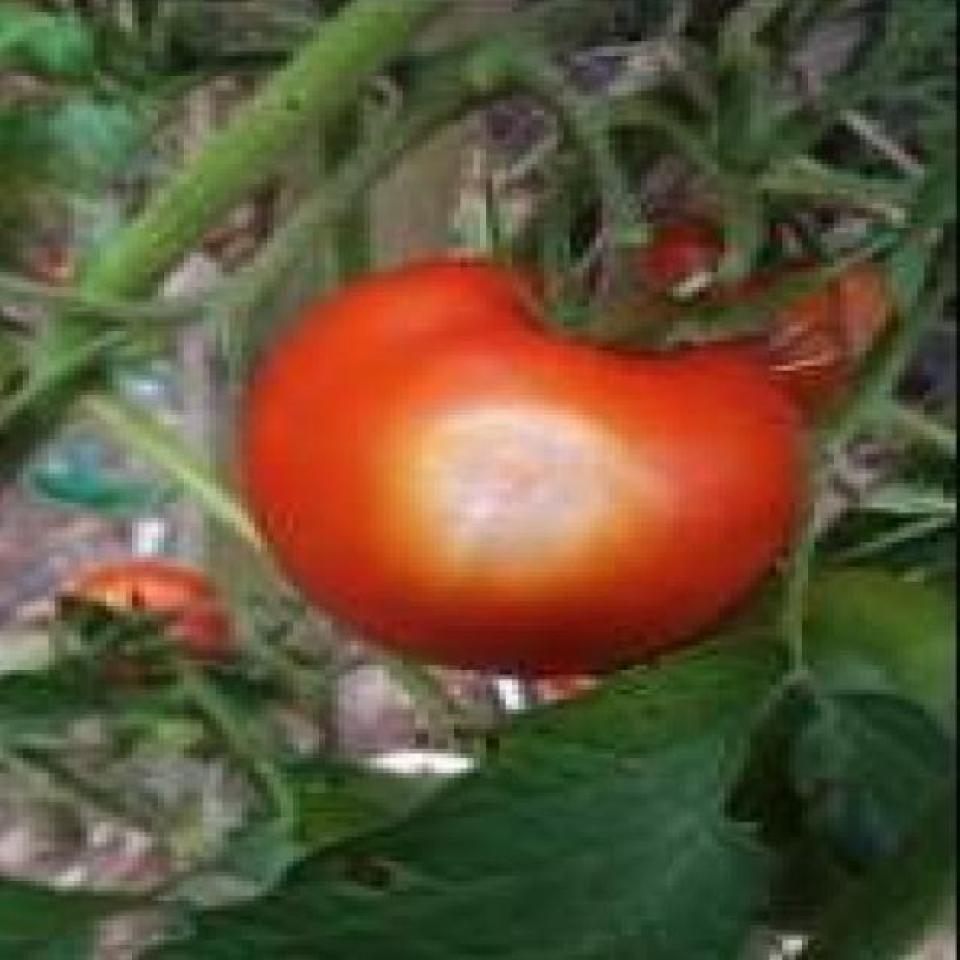Sunscald: (360, 368, 638, 599)
